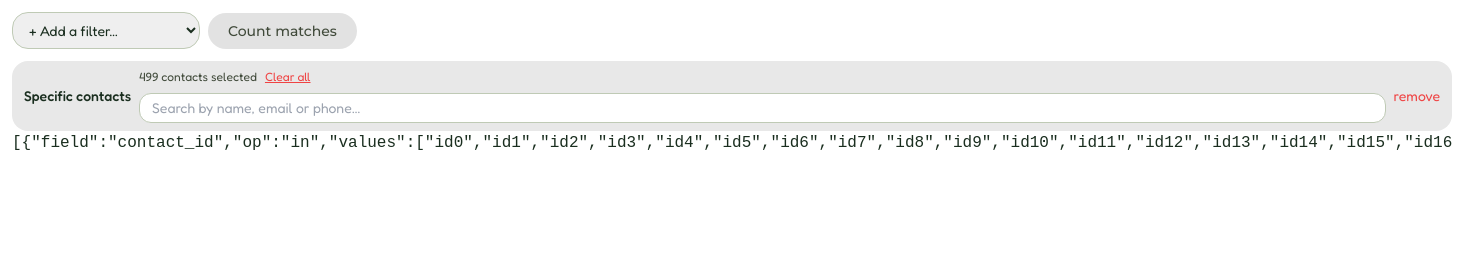
SegmentBuilder contact picker › Add stays enabled at 499 picks
Type "a" into the search field with placeholder "Search by name, email or phone…" at [762, 108], box [139,93,1386,123]
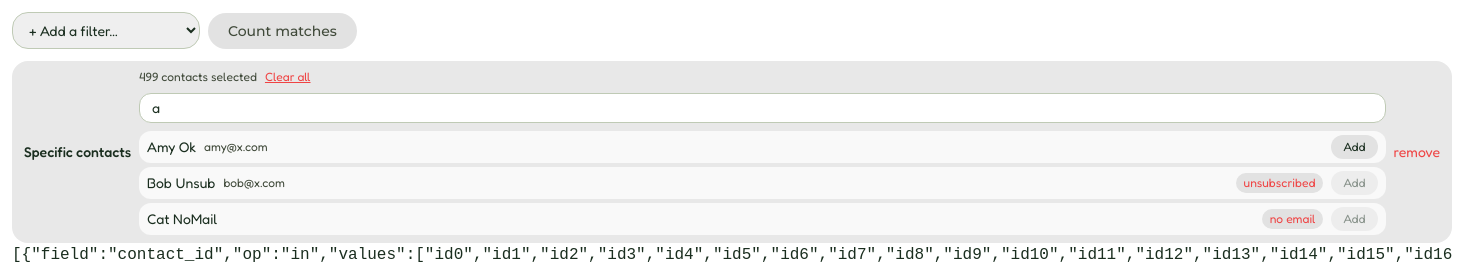
Expected: the text "Amy Ok" is shown, [147,137,196,157]
Expected: the button "Add" in the row of "Amy Ok" is enabled, [1332,135,1378,159]
